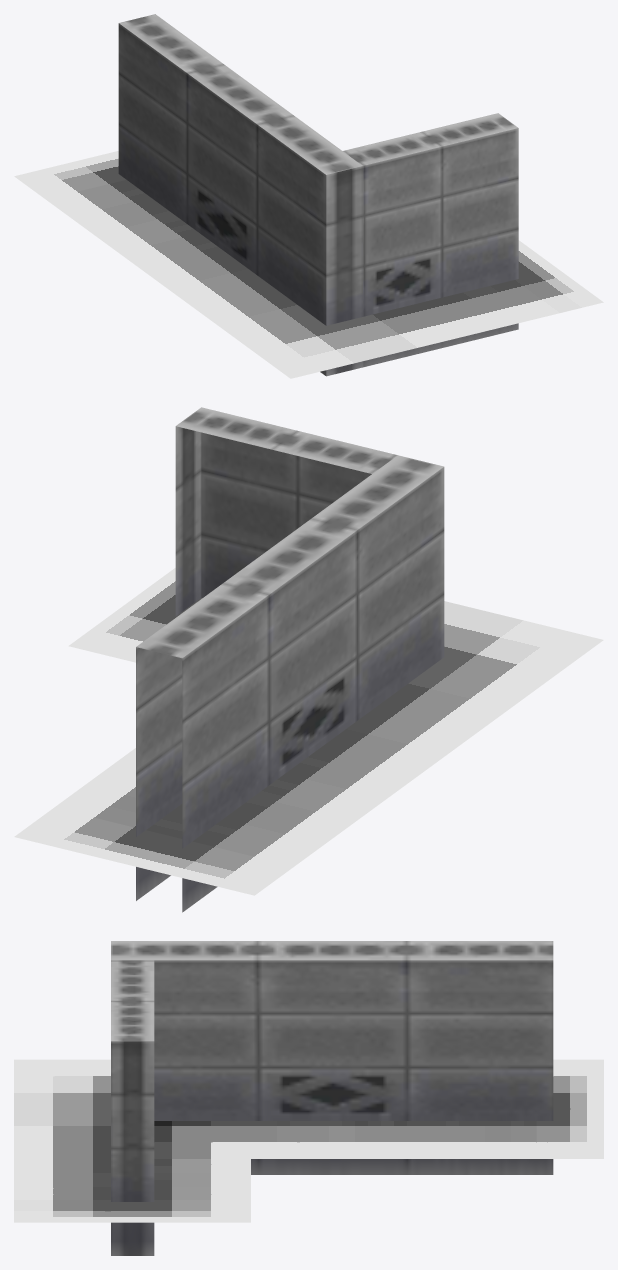
File: int_fence_21.dae
The picture shows the model from 3 angles, top to bottom: view 1: azimuth 30°, elevation 25°; view 2: azimuth 150°, elevation 25°; view 3: azimuth 270°, elevation 25°; orthographic projection. The views are drawn at different scales.
Parts seen in each view (by area): view 1: int_fence_21; view 2: int_fence_21; view 3: int_fence_21.
Boxes of the visible parts, x1,y1,x2,y2 form: int_fence_21: (14,14,603,378); int_fence_21: (14,407,603,912); int_fence_21: (14,941,603,1255).
Bounding box in the file's own units: 45.75 × 28.11 × 70.
Materials: 2 (2 with a texture image).
